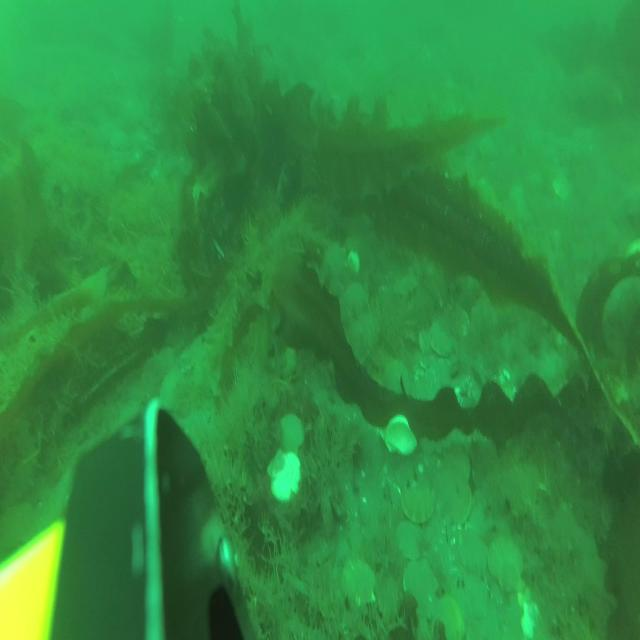scallop: (374, 404, 419, 462), (488, 532, 528, 594), (400, 559, 440, 621), (265, 449, 304, 504), (340, 556, 378, 611), (430, 590, 468, 640), (276, 409, 308, 463), (394, 516, 428, 566), (401, 478, 434, 526), (158, 366, 190, 415), (447, 472, 474, 530), (346, 280, 372, 320), (391, 268, 422, 300), (430, 319, 454, 360), (449, 450, 472, 488), (552, 167, 574, 202), (453, 302, 470, 340), (418, 326, 432, 357)
